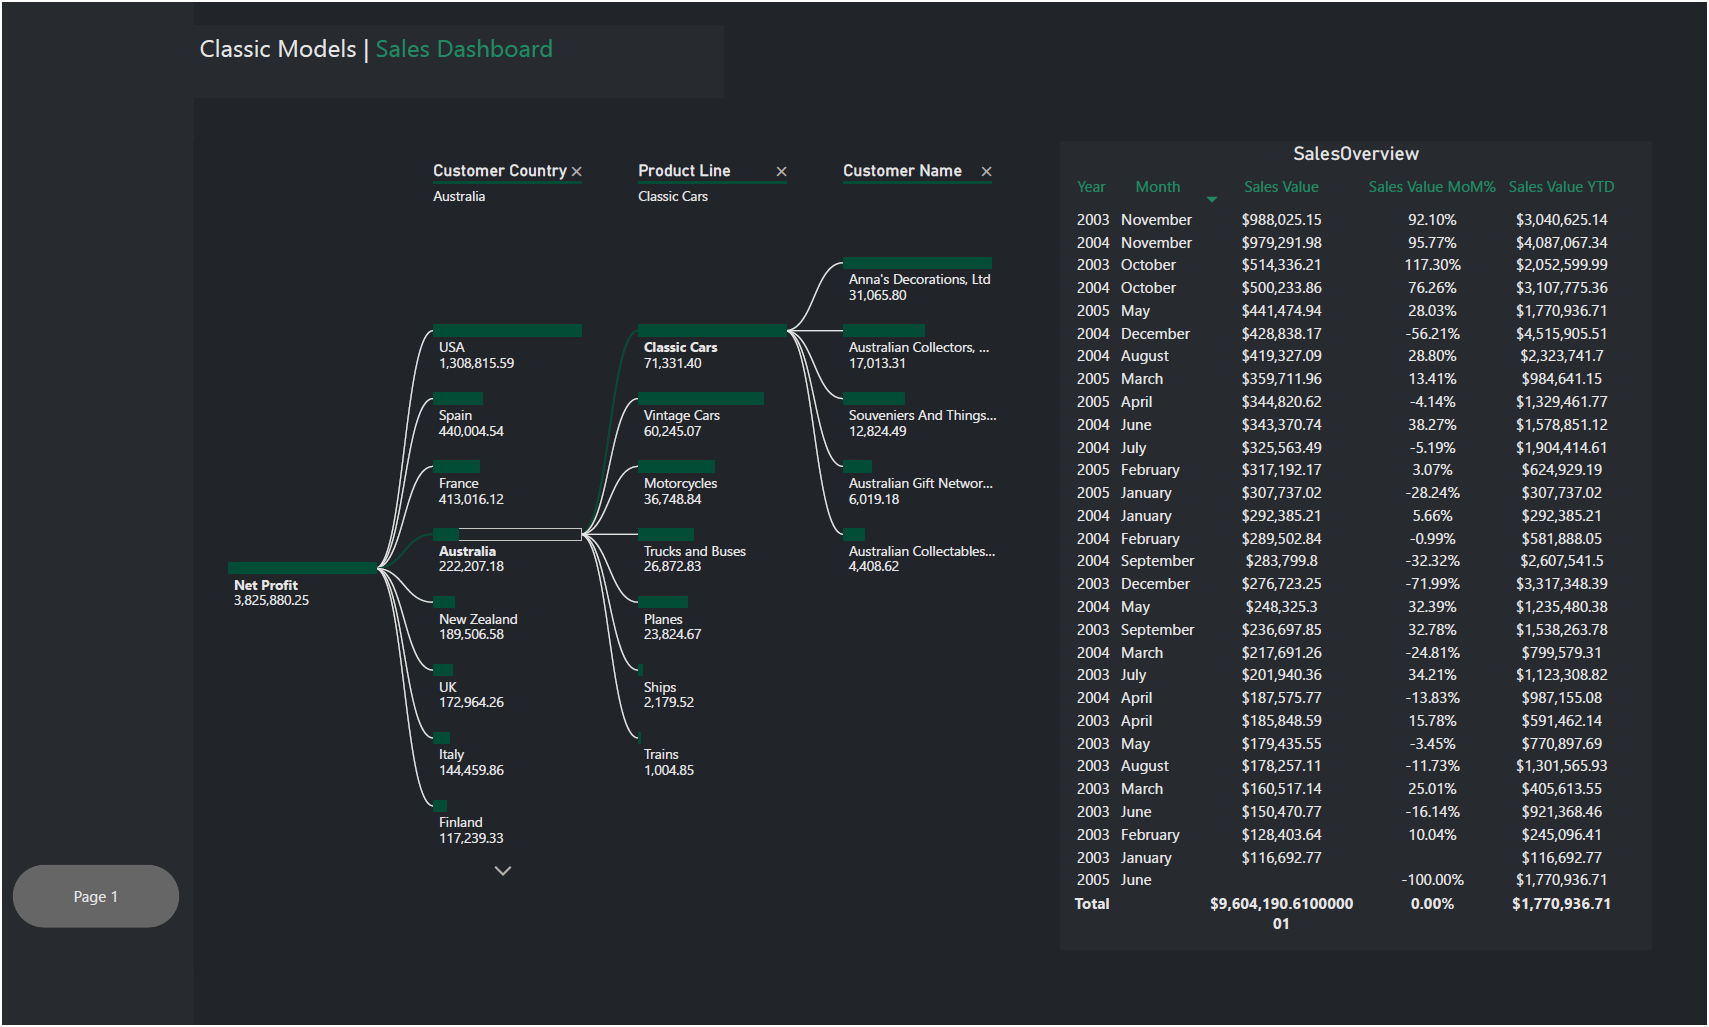

The dashboard page shown, as its layout file describes it:
{"tool":"powerbi","page":{"name":"Duplicate of Sales Overview Page 1","canvas":[1500,900],"ordinal":1},"visuals":[{"type":"shape","box":[0,0,170,900.3],"z":0},{"type":"decompositionTreeVisual","fields":{"Analyze":["classicmodels sales_data_for_power_bi.Net Profit"],"ExplainBy":["classicmodels sales_data_for_power_bi.customer_country","classicmodels sales_data_for_power_bi.productLine","classicmodels sales_data_for_power_bi.customerName"]},"box":[170,124.3,761.4,727.1],"z":14001},{"type":"textbox","box":[169.8,22.3,464.8,62.6],"z":14002},{"type":"tableEx","title":"SalesOverview","fields":{"Values":["classicmodels sales_data_for_power_bi.orderdate.Variation.Date Hierarchy.Year","classicmodels sales_data_for_power_bi.orderdate.Variation.Date Hierarchy.Month","Sum(classicmodels sales_data_for_power_bi.sales_value)","classicmodels sales_data_for_power_bi.Sum of sales_value MoM%","classicmodels sales_data_for_power_bi.sales_value YTD"]},"box":[931.4,124.3,518.6,708.6],"z":14003},{"type":"actionButton","box":[11.4,758.6,145.7,55.7],"z":14004}]}

Visuals, with their boxes on the page's 1500x900 design canvas (x1, y1, x2, y2). These are canvas units, not pixel positions in the 1709x1027 screenshot, which may show the page scaled, cropped or inside an application window:
shape: 0/0/170/900
decompositionTreeVisual - classicmodels sales_data_for_power_bi.Net Profit x classicmodels sales_data_for_power_bi.customer_country: 170/124/931/851
textbox: 170/22/635/85
"SalesOverview" tableEx: 931/124/1450/833
actionButton: 11/759/157/814
